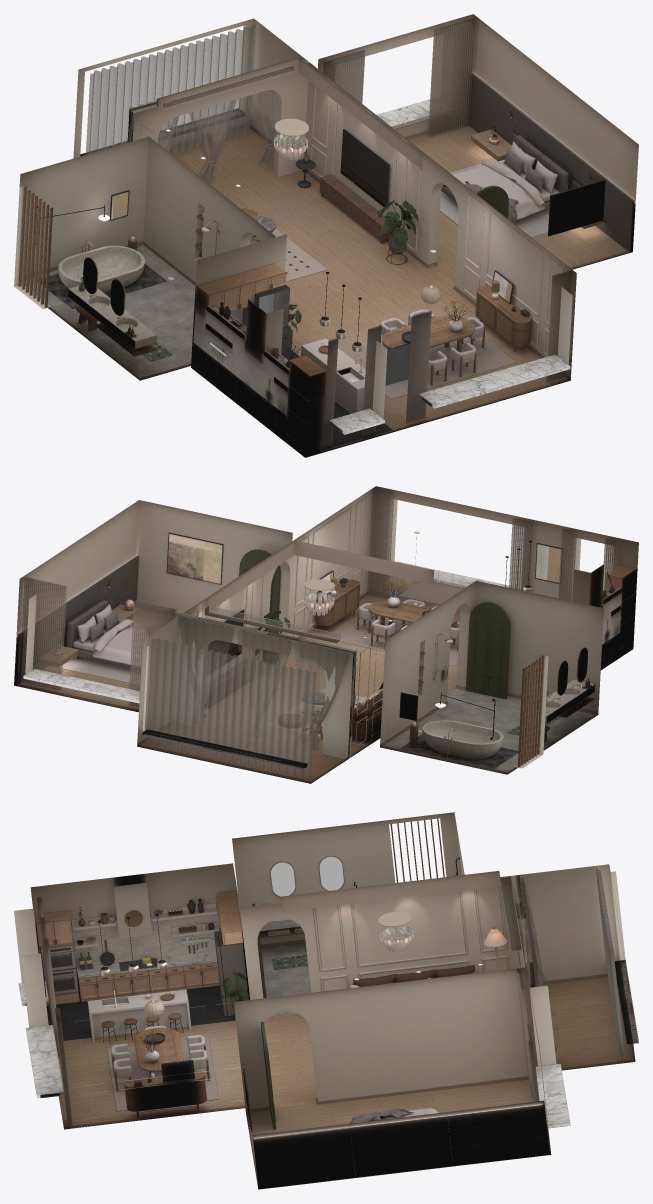
The model's file is interior.opt.glb.
3 renders of one model, top to bottom at view 1: azimuth 30°, elevation 25°; view 2: azimuth 150°, elevation 25°; view 3: azimuth 270°, elevation 25°, orthographic. The views are drawn at different scales.
Parts seen in each view (by area): view 1: house_house_0, floor_floor_0, curtain living room_curtain living room_0, floor bathroom_floor bathroom2_0, cabinet_cabinet1_0, curtain bedroom_curtain bedroom_0, background_background_0, curtain dining room_curtain dining room_0, sill_sill_0, concrete_concrete_0, arc wall_arc wall_0, backwall_backwall_0 (+25 smaller); view 2: house_house_0, curtain living room_curtain living room_0, floor_floor_0, arc wall_arc wall_0, curtain french_curtain french1_0, curtain bedroom_curtain bedroom_0, floor bathroom_floor bathroom2_0, curtain dining room_curtain dining room_0, door_door_0, background_background_0, concrete_concrete_0, art_art2_0 (+23 smaller); view 3: house_house_0, floor_floor_0, background_background_0, cabinet_cabinet1_0, sill_sill_0, table kichen_table kichen1_0, backwall_backwall_0, skirting line_skirting line_0, bar_bar_0, floor kichen_floor kichen_0, floor bathroom_floor bathroom2_0, curtain dining room_curtain dining room_0 (+19 smaller).
Boxes of the visible parts, bbox=[...] form: house_house_0: bbox=[14, 14, 638, 432]; floor_floor_0: bbox=[169, 124, 632, 431]; curtain living room_curtain living room_0: bbox=[85, 24, 255, 154]; floor bathroom_floor bathroom2_0: bbox=[25, 245, 195, 380]; cabinet_cabinet1_0: bbox=[197, 263, 326, 456]; curtain bedroom_curtain bedroom_0: bbox=[323, 17, 475, 136]; background_background_0: bbox=[467, 73, 634, 252]; curtain dining room_curtain dining room_0: bbox=[322, 270, 571, 447]; sill_sill_0: bbox=[80, 99, 570, 434]; concrete_concrete_0: bbox=[58, 245, 156, 348]; arc wall_arc wall_0: bbox=[127, 58, 309, 177]; backwall_backwall_0: bbox=[193, 300, 290, 416]; house_house_0: bbox=[14, 486, 638, 769]; curtain living room_curtain living room_0: bbox=[146, 638, 316, 777]; floor_floor_0: bbox=[14, 593, 459, 783]; arc wall_arc wall_0: bbox=[174, 613, 356, 759]; curtain french_curtain french1_0: bbox=[178, 617, 349, 750]; curtain bedroom_curtain bedroom_0: bbox=[19, 577, 176, 708]; floor bathroom_floor bathroom2_0: bbox=[380, 688, 597, 774]; curtain dining room_curtain dining room_0: bbox=[368, 488, 615, 604]; door_door_0: bbox=[239, 549, 510, 698]; background_background_0: bbox=[15, 556, 138, 685]; concrete_concrete_0: bbox=[422, 679, 595, 759]; art_art2_0: bbox=[167, 534, 561, 596]; house_house_0: bbox=[14, 812, 638, 1148]; floor_floor_0: bbox=[58, 977, 635, 1189]; background_background_0: bbox=[252, 1100, 549, 1188]; cabinet_cabinet1_0: bbox=[34, 891, 243, 1005]; sill_sill_0: bbox=[18, 960, 638, 1128]; table kichen_table kichen1_0: bbox=[101, 1013, 206, 1117]; backwall_backwall_0: bbox=[71, 908, 220, 967]; skirting line_skirting line_0: bbox=[59, 939, 634, 1188]; bar_bar_0: bbox=[87, 989, 191, 1041]; floor kichen_floor kichen_0: bbox=[46, 985, 235, 1040]; floor bathroom_floor bathroom2_0: bbox=[261, 942, 310, 1016]; curtain dining room_curtain dining room_0: bbox=[37, 897, 72, 1126].
Size of the model in its own units: 14.25 by 4.46 by 14.94.
91 materials, 90 textured.
